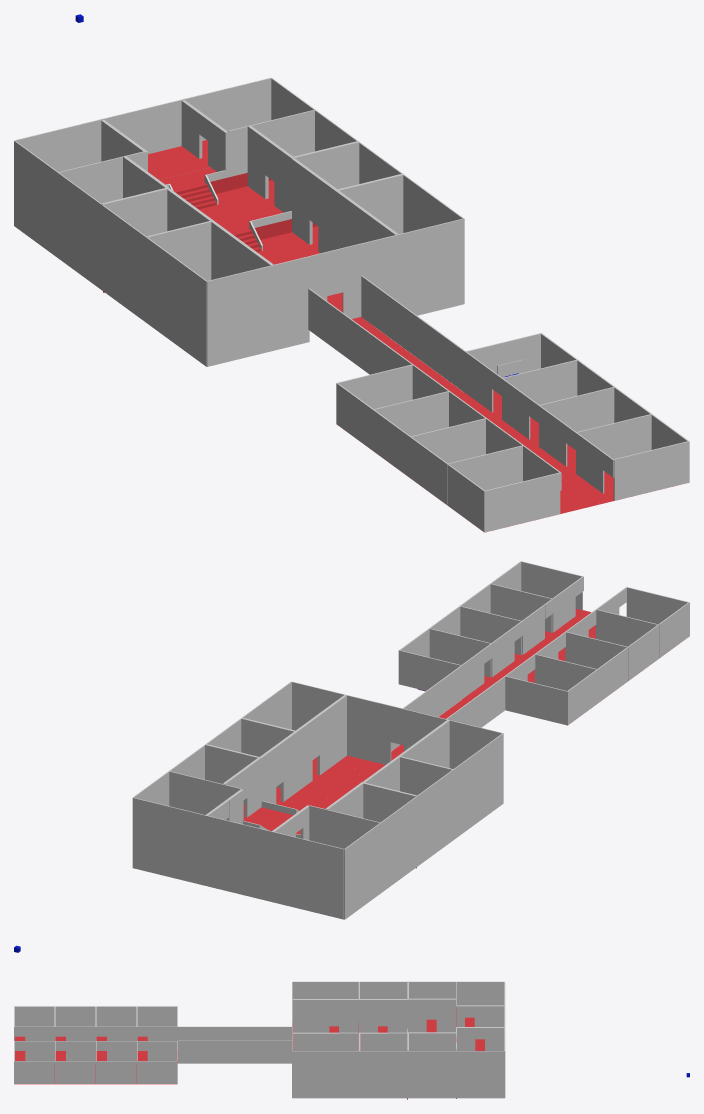
The model's file is MapaCompleto.fbx.
3 views of the same model, one above another, from view 1: azimuth 30°, elevation 25°; view 2: azimuth 150°, elevation 25°; view 3: azimuth 270°, elevation 25° (orthographic). The views are drawn at different scales.
Parts seen in each view (by area): view 1: Cubo.004, Floor, Cubo.078, Cubo.001, Cubo.002, Cubo.003, Cubo.082, Cubo.085, Cubo.062, Cubo.054, Cubo.050, Cubo.077 (+29 smaller); view 2: Cubo.001, Cubo.004, Floor, Cubo.003, Cubo.002, Cubo.062, Cubo.032, Cubo.077, Cubo.076, Cubo.075, Cubo.078, Cubo.071 (+25 smaller); view 3: Cubo.003, Cubo.004, Cubo.082, Cubo.085, Floor, Cubo.065, Cubo.031, Cubo.040, Cubo.047, Cubo.052, Cubo.038, Cubo.048 (+28 smaller).
Boxes of the visible parts, left/top/right/bottom form: Cubo.004: left=14, top=140, right=207, bottom=366; Floor: left=103, top=140, right=688, bottom=530; Cubo.078: left=207, top=256, right=309, bottom=366; Cubo.001: left=15, top=78, right=271, bottom=177; Cubo.002: left=361, top=219, right=463, bottom=324; Cubo.003: left=271, top=78, right=464, bottom=304; Cubo.082: left=361, top=275, right=465, bottom=392; Cubo.085: left=308, top=288, right=412, bottom=374; Cubo.062: left=318, top=174, right=403, bottom=252; Cubo.054: left=613, top=441, right=689, bottom=500; Cubo.050: left=485, top=472, right=560, bottom=531; Cubo.077: left=274, top=141, right=359, bottom=212; Cubo.001: left=132, top=797, right=343, bottom=919; Cubo.004: left=344, top=733, right=503, bottom=919; Floor: left=243, top=609, right=688, bottom=887; Cubo.003: left=133, top=681, right=291, bottom=805; Cubo.002: left=292, top=681, right=376, bottom=762; Cubo.062: left=241, top=717, right=298, bottom=801; Cubo.032: left=505, top=676, right=566, bottom=725; Cubo.077: left=205, top=744, right=261, bottom=817; Cubo.076: left=169, top=771, right=240, bottom=819; Cubo.075: left=309, top=805, right=380, bottom=848; Cubo.078: left=418, top=712, right=502, bottom=768; Cubo.071: left=317, top=695, right=346, bottom=775; Cubo.003: left=292, top=1051, right=504, bottom=1098; Cubo.004: left=292, top=981, right=504, bottom=1021; Cubo.082: left=178, top=1040, right=291, bottom=1063; Cubo.085: left=178, top=1026, right=291, bottom=1040; Floor: left=14, top=1007, right=484, bottom=1099; Cubo.065: left=293, top=999, right=329, bottom=1032; Cubo.031: left=137, top=1061, right=177, bottom=1083; Cubo.040: left=96, top=1061, right=136, bottom=1083; Cubo.047: left=55, top=1061, right=95, bottom=1083; Cubo.052: left=14, top=1061, right=54, bottom=1083; Cubo.038: left=96, top=1006, right=136, bottom=1026; Cubo.048: left=55, top=1006, right=95, bottom=1026.
Bounding box in the file's own units: 10005 × 3274 × 41121.
